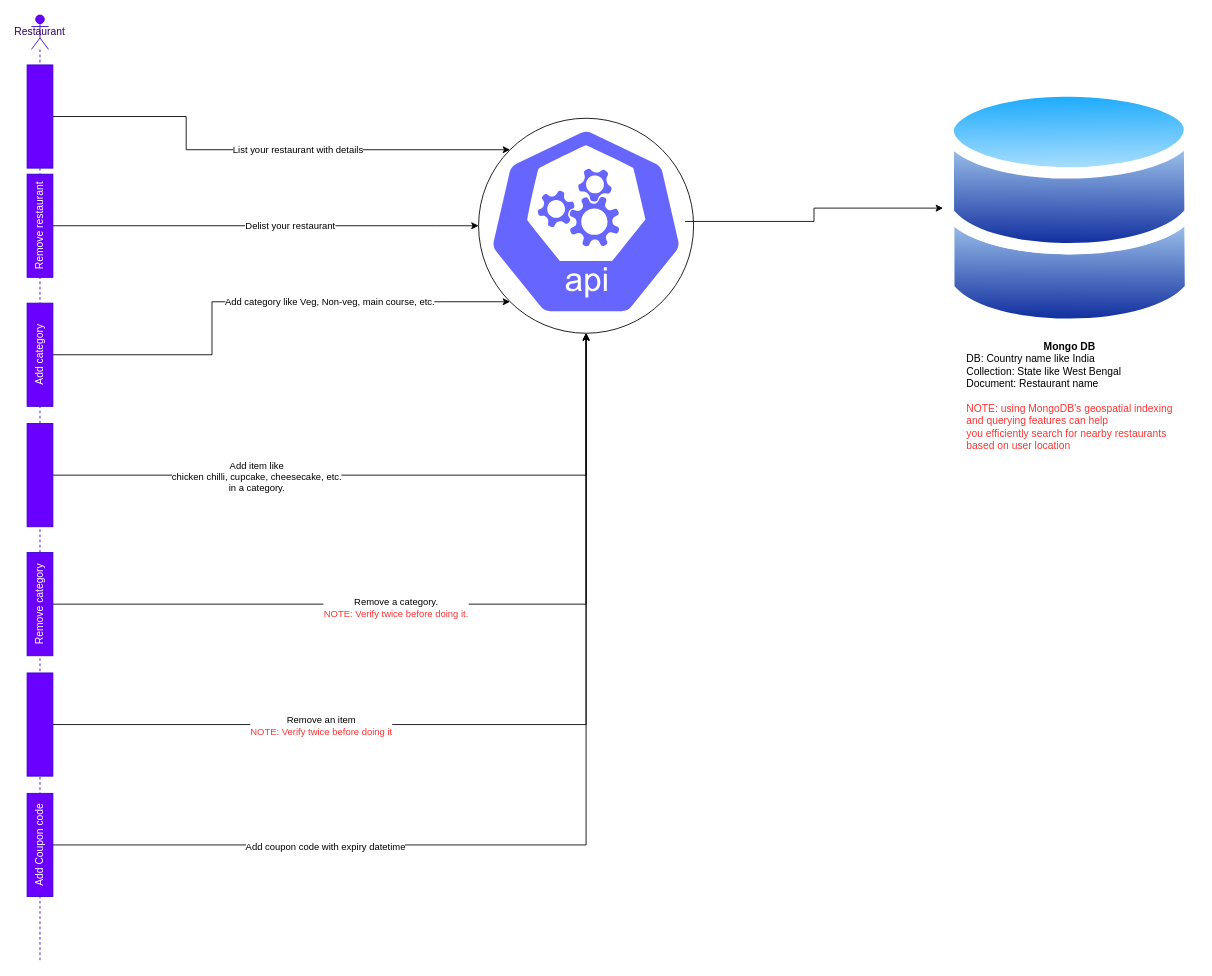
This 1212x976 diagram has some shape labels left out. Here are the shapes that lost their labels. From the top down, the centre of each, then its label:
At (x=39, y=116): "Add restaurant".
At (x=39, y=475): "Add item".
At (x=39, y=724): "Remove item".
